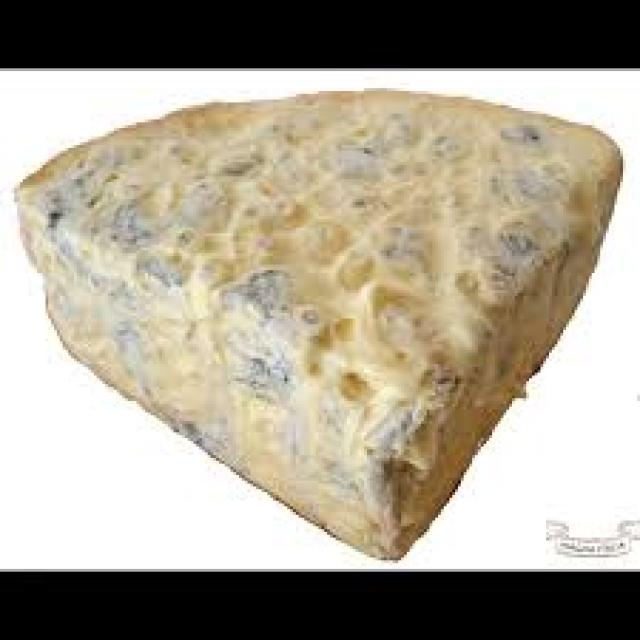Cheese: (17, 70, 630, 555)
